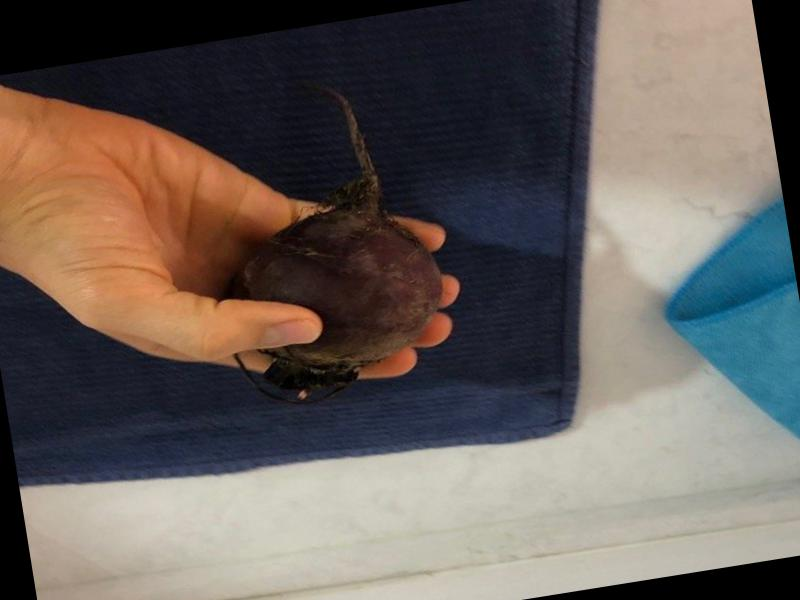Beet: (192, 74, 455, 412)
